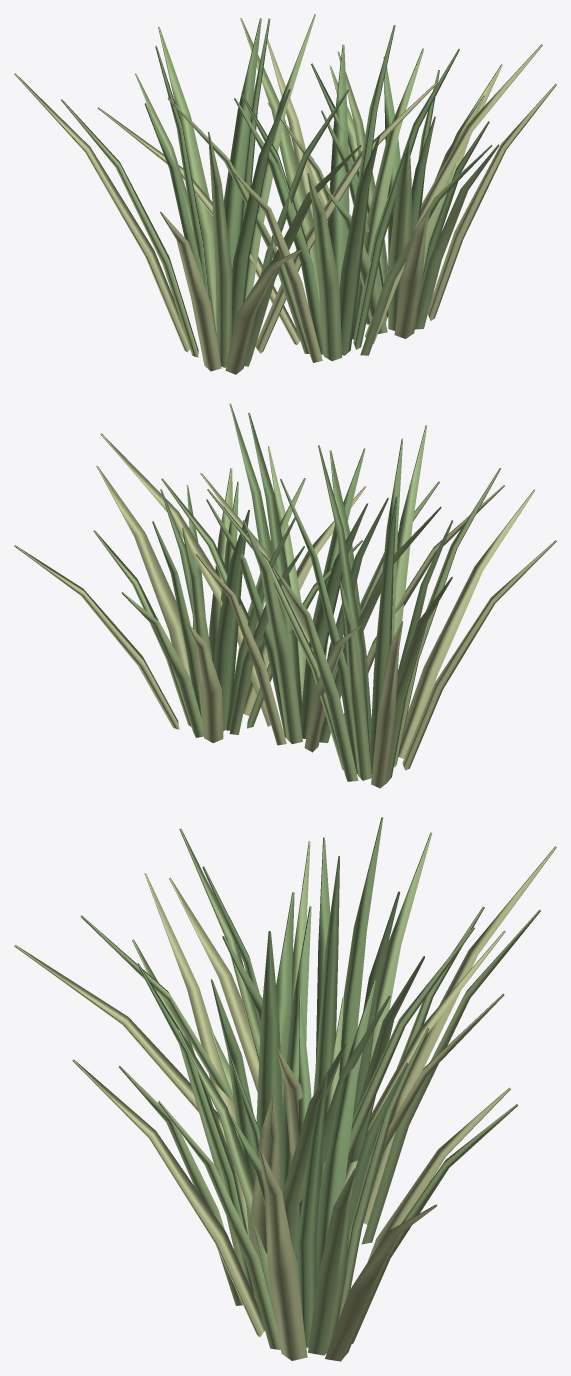
Rendered from campo_grass_3.glb.
3 renders of one model, top to bottom at view 1: azimuth 30°, elevation 25°; view 2: azimuth 150°, elevation 25°; view 3: azimuth 270°, elevation 25°, orthographic. The views are drawn at different scales.
Parts seen in each view (by area): view 1: CampoGrassFresh, CampoGrassDeep, CampoGrassGold; view 2: CampoGrassFresh, CampoGrassDeep, CampoGrassGold; view 3: CampoGrassFresh, CampoGrassDeep, CampoGrassGold.
Part boxes in pixels (x1,y1,x2,y2): CampoGrassFresh: (61,14,499,367); CampoGrassDeep: (144,18,489,355); CampoGrassGold: (14,39,556,374); CampoGrassFresh: (93,425,501,782); CampoGrassDeep: (152,403,452,774); CampoGrassGold: (14,433,556,788); CampoGrassFresh: (80,828,540,1355); CampoGrassDeep: (136,817,408,1347); CampoGrassGold: (14,846,556,1361).
Size of the model in its own units: 0.9475 by 0.6533 by 0.7778.
